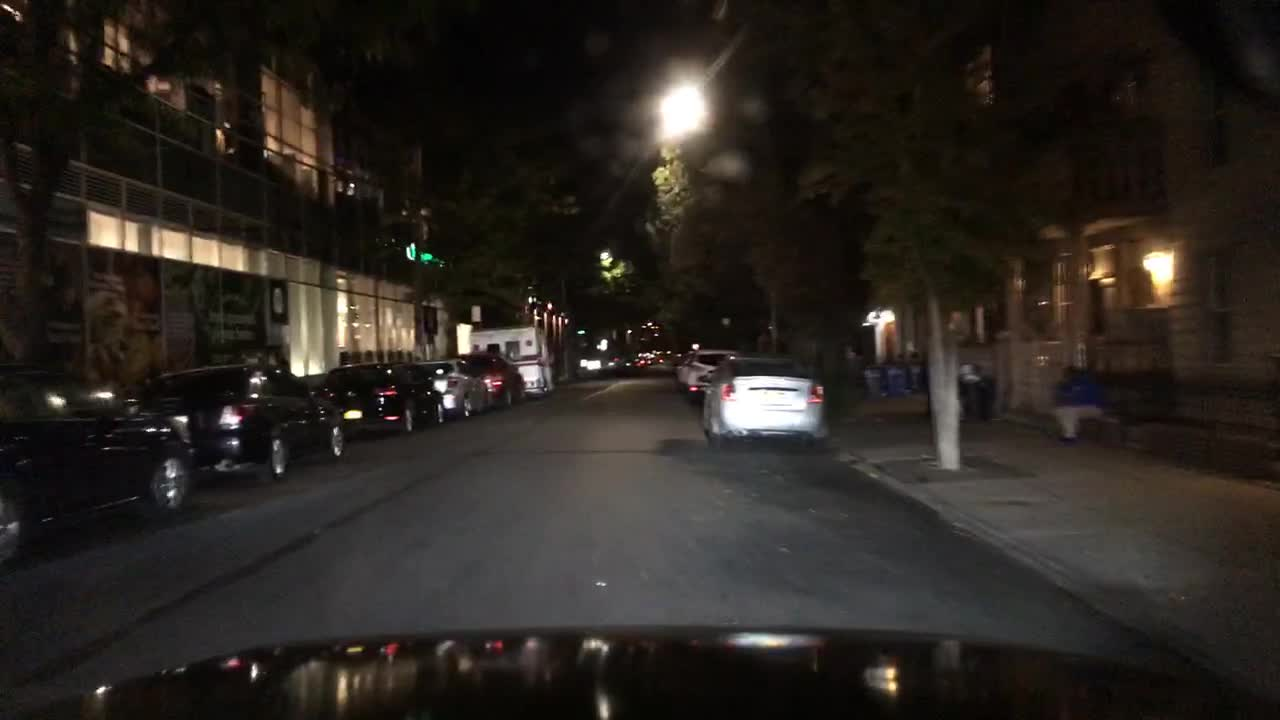car: (0, 363, 198, 573), (145, 360, 347, 477), (700, 351, 828, 456), (321, 360, 445, 435), (413, 359, 490, 420), (456, 352, 528, 407), (674, 351, 736, 397), (578, 345, 630, 375), (672, 351, 692, 374), (638, 351, 653, 366), (631, 356, 645, 368), (649, 351, 658, 365), (655, 352, 667, 362)
person: (1047, 362, 1101, 441)
traffic light: (420, 252, 433, 261)
truck: (459, 325, 553, 401)
